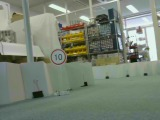speed_10: (50, 48, 67, 66)
